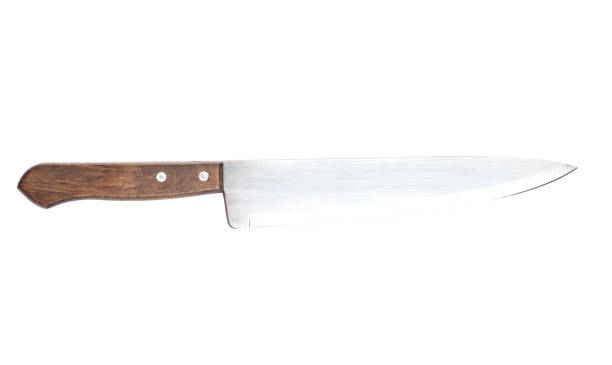knife: (18, 161, 578, 229)
